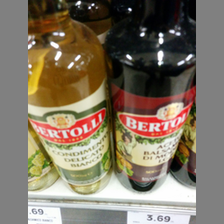vinegar: (27, 1, 114, 194), (107, 24, 195, 195)
